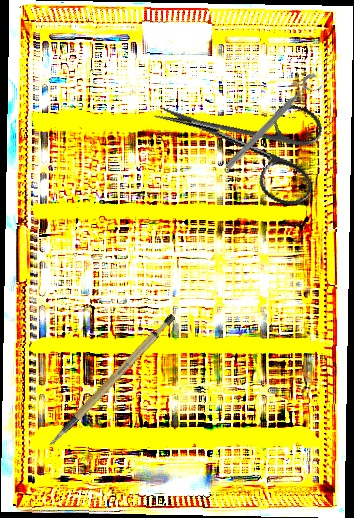Fixation Ring: (222, 71, 326, 177)
Iris Scissors: (140, 66, 334, 211)
Scalpel Handle: (29, 311, 191, 448)
